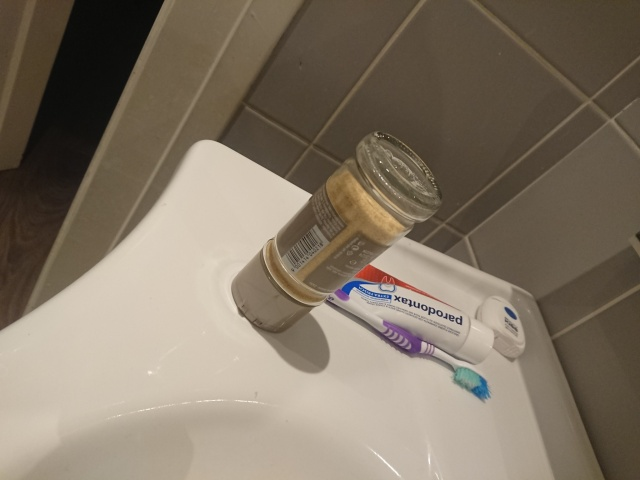Kotanyi Garlic Granules 70g: (229, 127, 445, 336)
